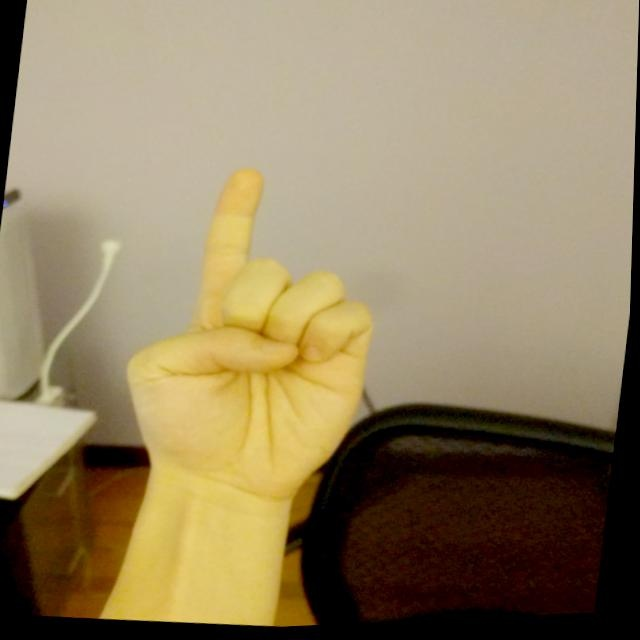D: (105, 151, 401, 530)
